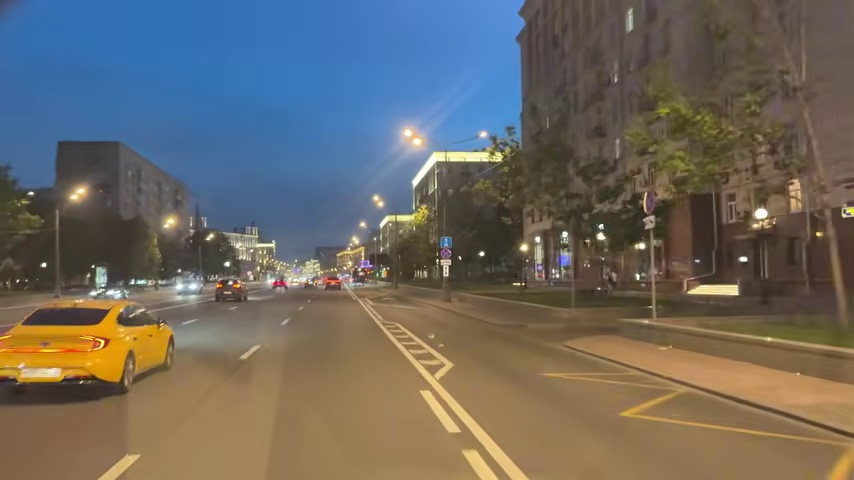acesa: (65, 182, 90, 206), (402, 127, 425, 149), (161, 213, 179, 232), (371, 193, 386, 209)
